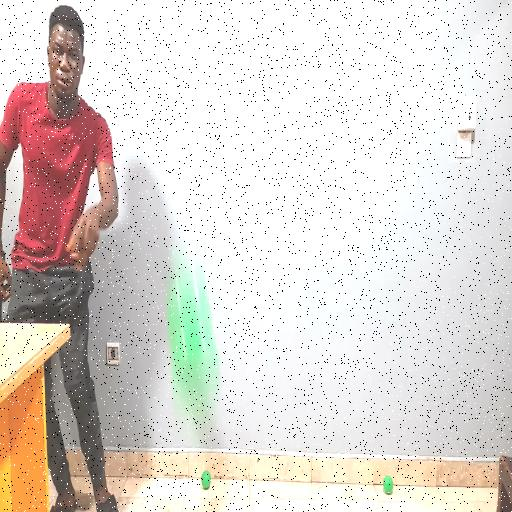plastic-ball: (166, 249, 218, 418)
